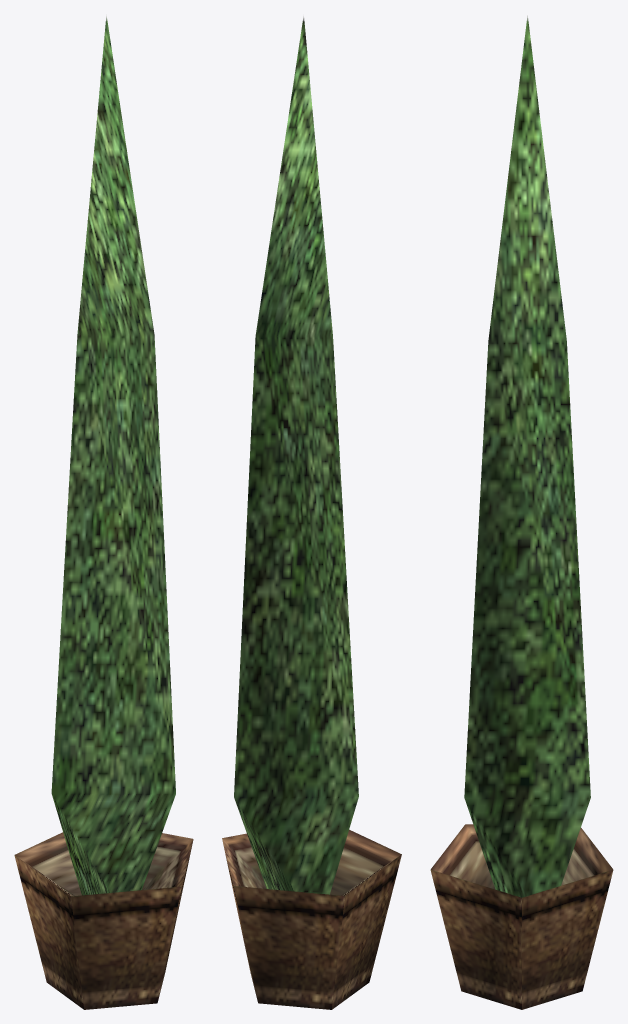
File: wrld_cypress_potted_a.glb
3 renders of one model, left to right at view 1: azimuth 30°, elevation 25°; view 2: azimuth 150°, elevation 25°; view 3: azimuth 270°, elevation 25°, orthographic.
Visible parts, largest first — view 1: wrld_cypress_potted_a; view 2: wrld_cypress_potted_a; view 3: wrld_cypress_potted_a.
Part boxes in pixels (<box>): wrld_cypress_potted_a: <box>14,14,193,1009</box>; wrld_cypress_potted_a: <box>222,14,401,1009</box>; wrld_cypress_potted_a: <box>430,15,613,1009</box>.
Bounding box in the file's own units: 1.17 × 7.18 × 1.23.
Materials: 1 (1 with a texture image).
